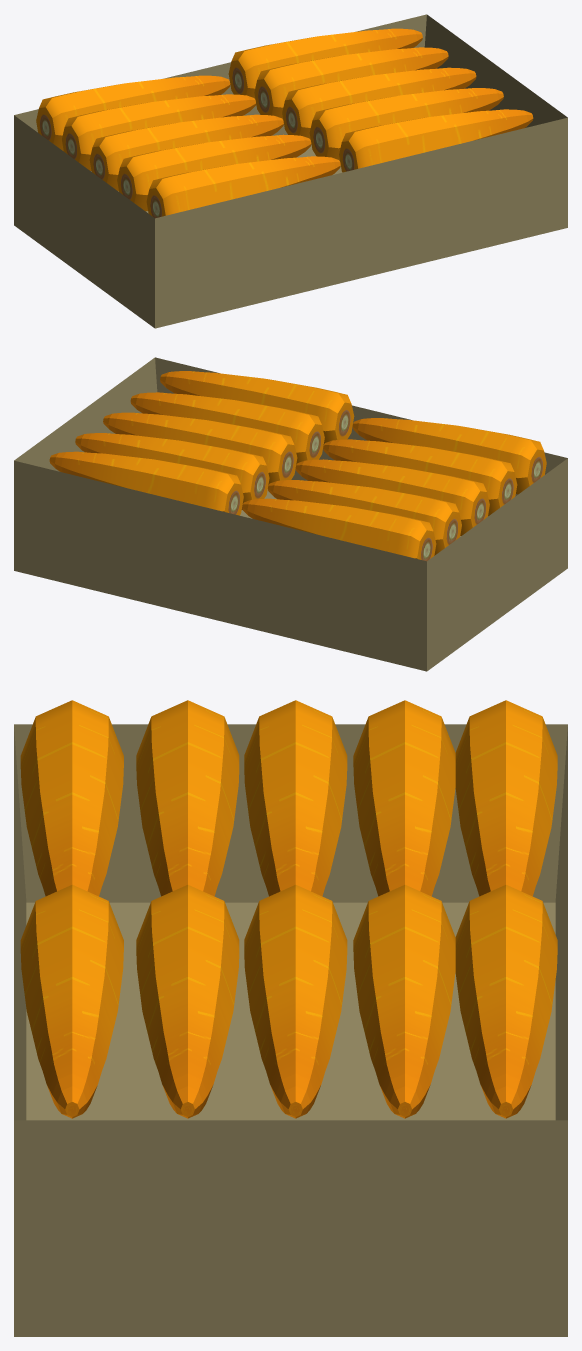
The model's file is carrot_box1.fbx.
3 views of the same model, one above another, from view 1: azimuth 30°, elevation 25°; view 2: azimuth 150°, elevation 25°; view 3: azimuth 270°, elevation 25° (orthographic). The views are drawn at different scales.
Parts seen in each view (by area): view 1: carrot_box; view 2: carrot_box; view 3: carrot_box.
Boxes of the visible parts, x1,y1,x2,y2 form: carrot_box: (14,14,567,328); carrot_box: (14,357,567,671); carrot_box: (14,700,567,1336).
Bounding box in the file's own units: 112 × 34.74 × 66.53.
Materials: 2 (1 with a texture image).
